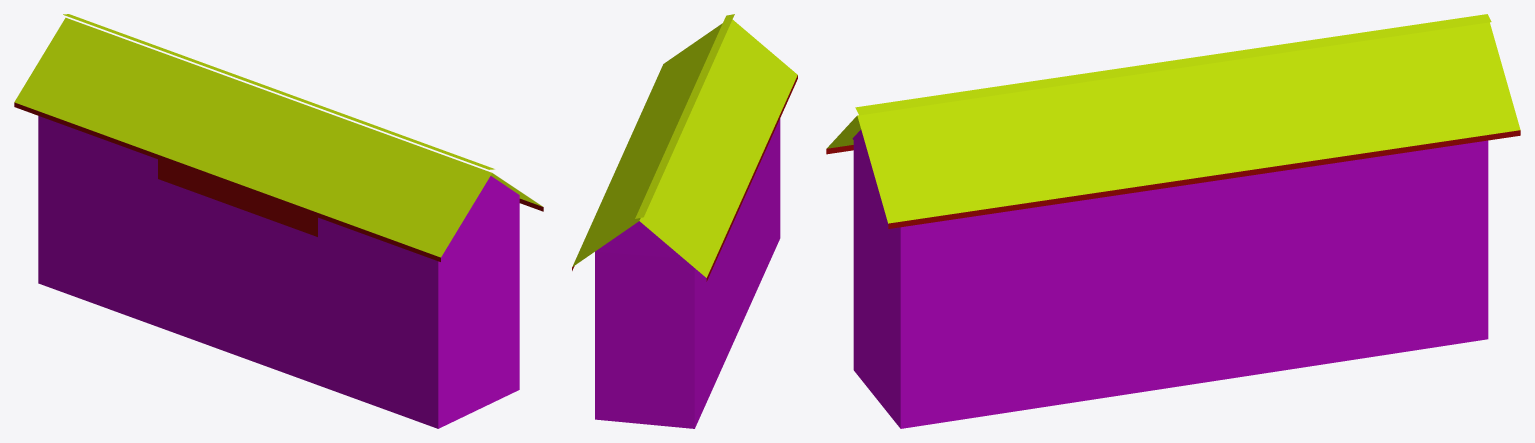
The model's file is bgj_189.glb.
The picture shows the model from 3 angles, left to right: view 1: azimuth 30°, elevation 25°; view 2: azimuth 150°, elevation 25°; view 3: azimuth 270°, elevation 25°; orthographic projection. The views are drawn at different scales.
Visible parts, largest first — view 1: bgj_189; view 2: bgj_189; view 3: bgj_189.
Boxes of the visible parts, left/top/right/bottom form: bgj_189: left=14, top=14, right=543, bottom=428; bgj_189: left=572, top=14, right=797, bottom=428; bgj_189: left=826, top=14, right=1520, bottom=428.
Size of the model in its own units: 7.81 by 6.34 by 13.63.
